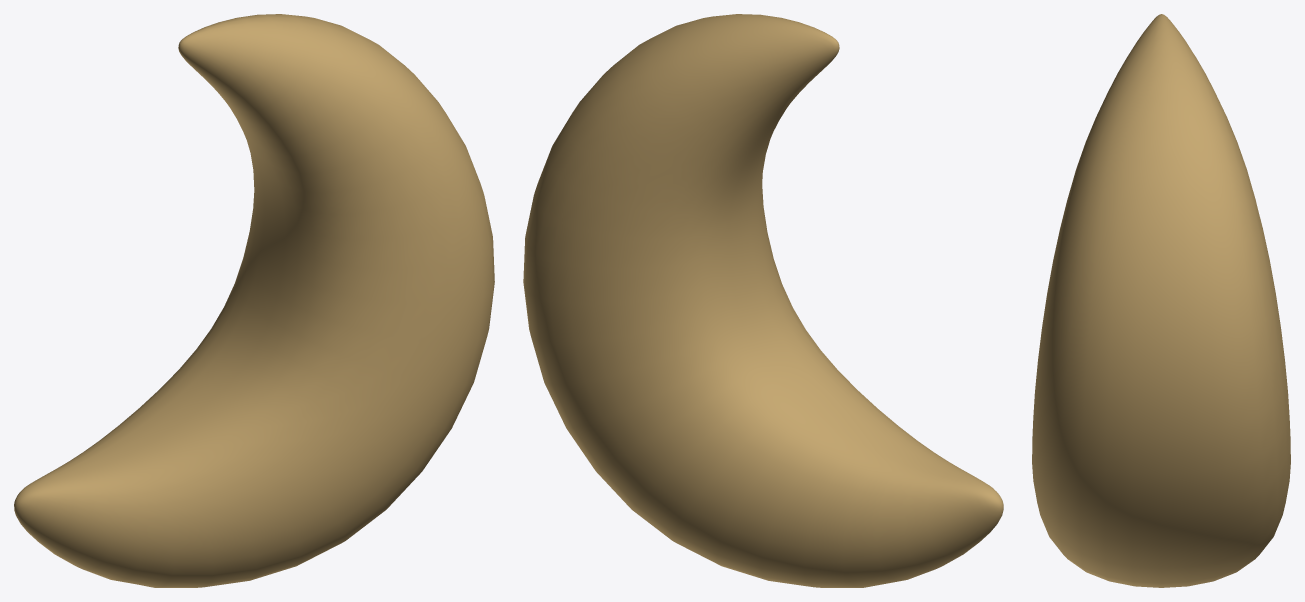
The model's file is Moon.gltf.
3 renders of one model, left to right at view 1: azimuth 30°, elevation 25°; view 2: azimuth 150°, elevation 25°; view 3: azimuth 270°, elevation 25°, orthographic.
Parts seen in each view (by area): view 1: Moon; view 2: Moon; view 3: Moon.
Part boxes in pixels (x1,y1,x2,y2): Moon: (14,14,494,587); Moon: (523,14,1003,587); Moon: (1032,14,1290,587).
Size of what is drawn, in the model's own units: 1.33 by 1.53 by 0.6636.
